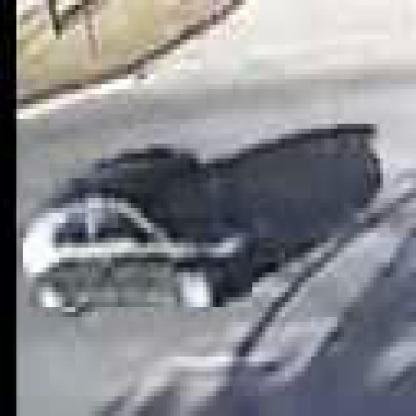car: (21, 179, 253, 313)
